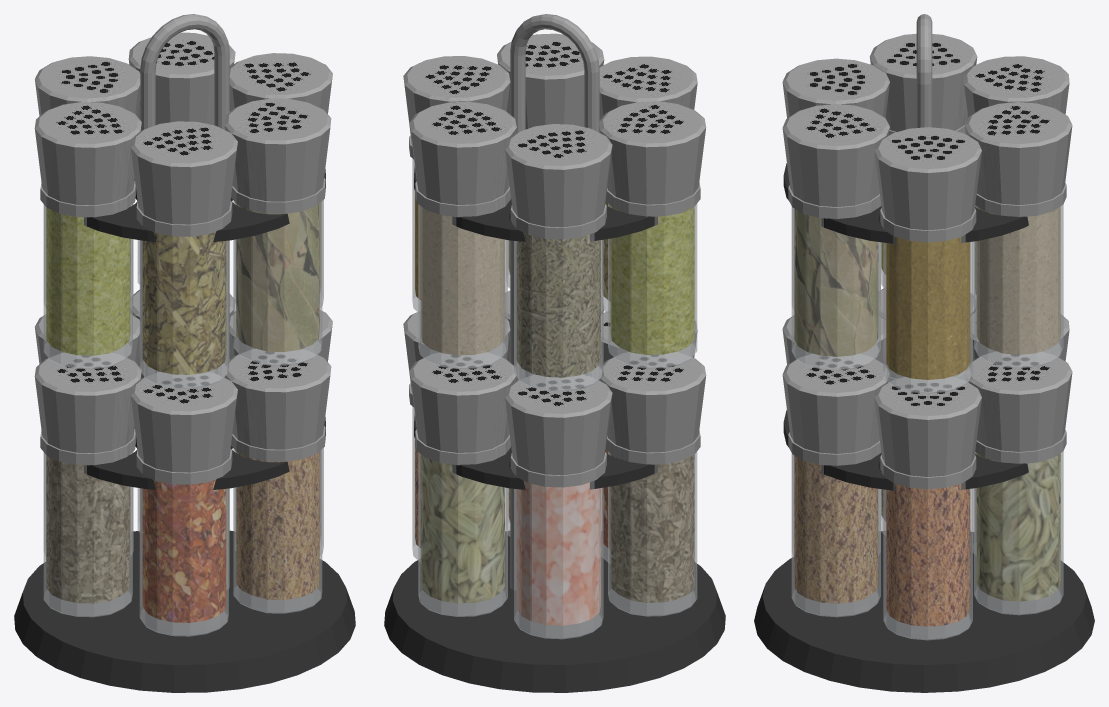
The model's file is sweethome3d-scopia-spice-tower.glb.
3 views of the same model, side by side, from view 1: azimuth 30°, elevation 25°; view 2: azimuth 150°, elevation 25°; view 3: azimuth 270°, elevation 25° (orthographic).
Parts seen in each view (by area): view 1: base_Cylinder, redPepperPot_Cylinder.001, basilPot_Cylinder.005, thymePot_Cylinder.026, wasabiPot_Cylinder.027, cilantroPot_Cylinder.010, bayLeafPot_Cylinder.011, sweethome3d_window_mirror_basillPot, sweethome3d_window_mirror_redPepperPot, sweethome3d_window_mirror_wasabiPot, sweethome3d_window_mirror_bayLeafPot, sweethome3d_window_mirror_thymePot (+9 smaller); view 2: base_Cylinder, roseMaryPot_Cylinder.023, himalayanSugarPot_Cylinder.022, wasabiPot_Cylinder.027, thymePot_Cylinder.026, gingerPot_Cylinder.019, fennelPot_Cylinder.018, sweethome3d_window_mirror_roseMaryPot, sweethome3d_window_mirror_himalayanSugarPot, sweethome3d_window_mirror_gingerPot, sweethome3d_window_mirror_wasabiPot, sweethome3d_window_mirror_fennelPot (+13 smaller); view 3: base_Cylinder, cinnamonPot_Cylinder.014, curryPot_Cylinder.015, gingerPot_Cylinder.019, fennelPot_Cylinder.018, bayLeafPot_Cylinder.011, cilantroPot_Cylinder.010, sweethome3d_window_mirror_curryPot, sweethome3d_window_mirror_cinnamonPot, sweethome3d_window_mirror_bayLeafPot, sweethome3d_window_mirror_gingerPot, sweethome3d_window_mirror_cilantroPot (+9 smaller).
Part boxes in pixels (box(x1,y1,x2,y2)): base_Cylinder: box(14, 530, 355, 692); redPepperPot_Cylinder.001: box(139, 479, 228, 636); basilPot_Cylinder.005: box(139, 231, 228, 388); thymePot_Cylinder.026: box(43, 452, 132, 617); wasabiPot_Cylinder.027: box(43, 204, 132, 369); cilantroPot_Cylinder.010: box(233, 448, 322, 613); bayLeafPot_Cylinder.011: box(233, 200, 322, 365); sweethome3d_window_mirror_basillPot: box(131, 121, 237, 236); sweethome3d_window_mirror_redPepperPot: box(131, 372, 237, 484); sweethome3d_window_mirror_wasabiPot: box(34, 102, 141, 217); sweethome3d_window_mirror_bayLeafPot: box(224, 98, 331, 213); sweethome3d_window_mirror_thymePot: box(34, 352, 141, 465); base_Cylinder: box(384, 531, 725, 692); roseMaryPot_Cylinder.023: box(514, 232, 603, 391); himalayanSugarPot_Cylinder.022: box(514, 480, 603, 639); wasabiPot_Cylinder.027: box(608, 203, 697, 368); thymePot_Cylinder.026: box(608, 451, 697, 616); gingerPot_Cylinder.019: box(418, 204, 507, 368); fennelPot_Cylinder.018: box(418, 452, 507, 616); sweethome3d_window_mirror_roseMaryPot: box(505, 124, 612, 239); sweethome3d_window_mirror_himalayanSugarPot: box(505, 374, 612, 487); sweethome3d_window_mirror_gingerPot: box(409, 101, 516, 217); sweethome3d_window_mirror_wasabiPot: box(599, 101, 706, 216); sweethome3d_window_mirror_fennelPot: box(409, 352, 516, 465); base_Cylinder: box(754, 531, 1094, 692); cinnamonPot_Cylinder.014: box(883, 482, 972, 640); curryPot_Cylinder.015: box(883, 235, 972, 393); gingerPot_Cylinder.019: box(974, 204, 1063, 368); fennelPot_Cylinder.018: box(974, 451, 1063, 615); bayLeafPot_Cylinder.011: box(791, 207, 880, 370); cilantroPot_Cylinder.010: box(791, 453, 880, 617); sweethome3d_window_mirror_curryPot: box(874, 127, 981, 242); sweethome3d_window_mirror_cinnamonPot: box(874, 377, 981, 489); sweethome3d_window_mirror_bayLeafPot: box(782, 104, 889, 218); sweethome3d_window_mirror_gingerPot: box(965, 102, 1072, 216); sweethome3d_window_mirror_cilantroPot: box(782, 354, 889, 465).
Bounding box in the file's own units: 15.9 × 31 × 15.9.
16 materials, 13 textured.
